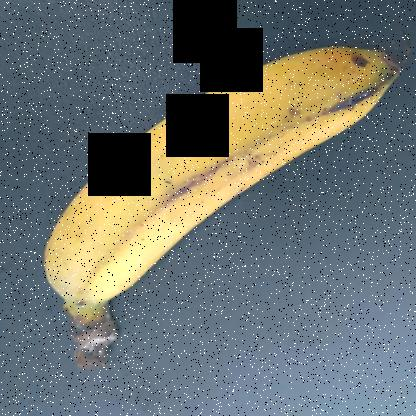freshripe: (44, 10, 416, 316)
